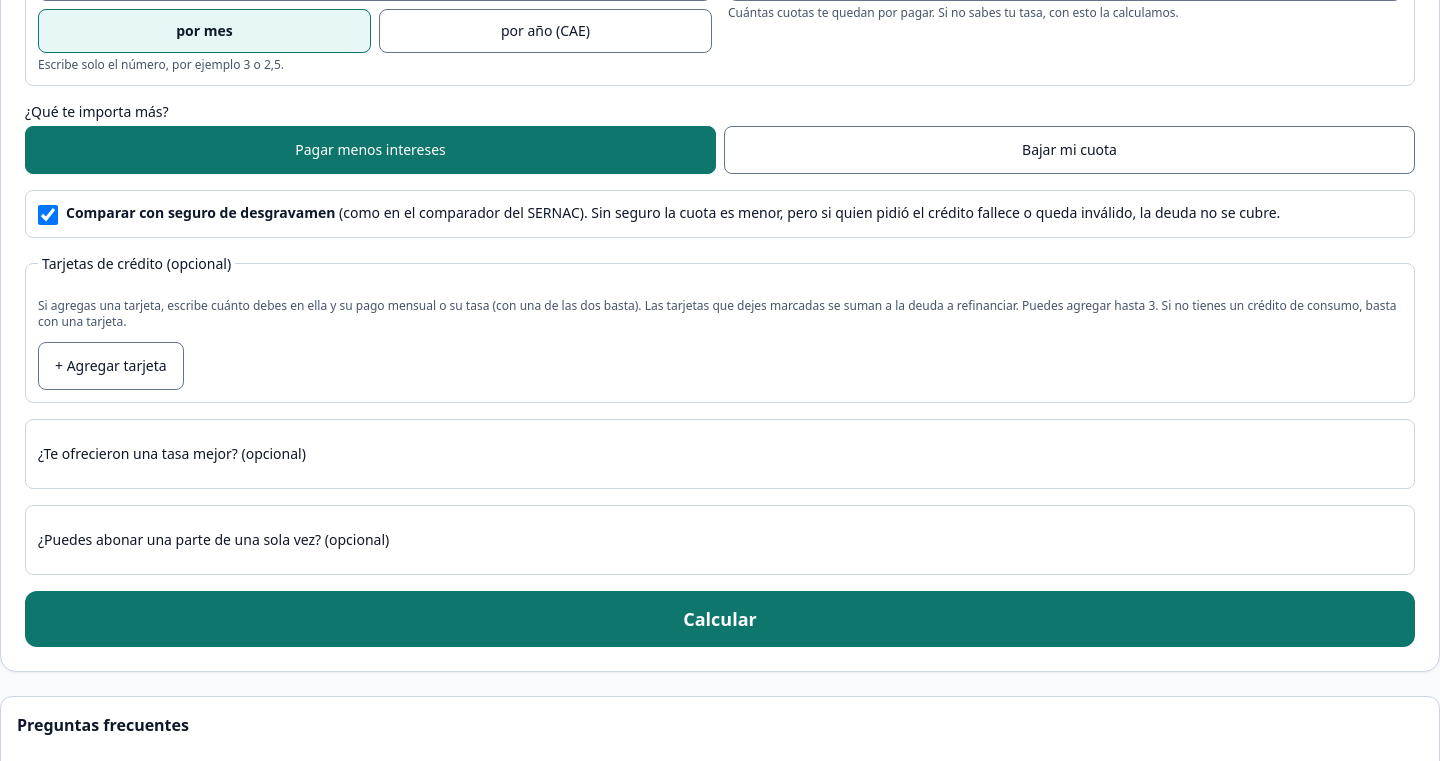
Tarjetas: se suman al total a refinanciar › cada tarjeta trae la casilla 'Incluir en el refinanciamiento' marcada por defecto
The image size is (1440, 761).
(page scrolled)
What coordinates should you click on to do the following:
click the button "+ Agregar tarjeta"
I would click on:
 (111, 366)
Its box is [38,342,184,390].
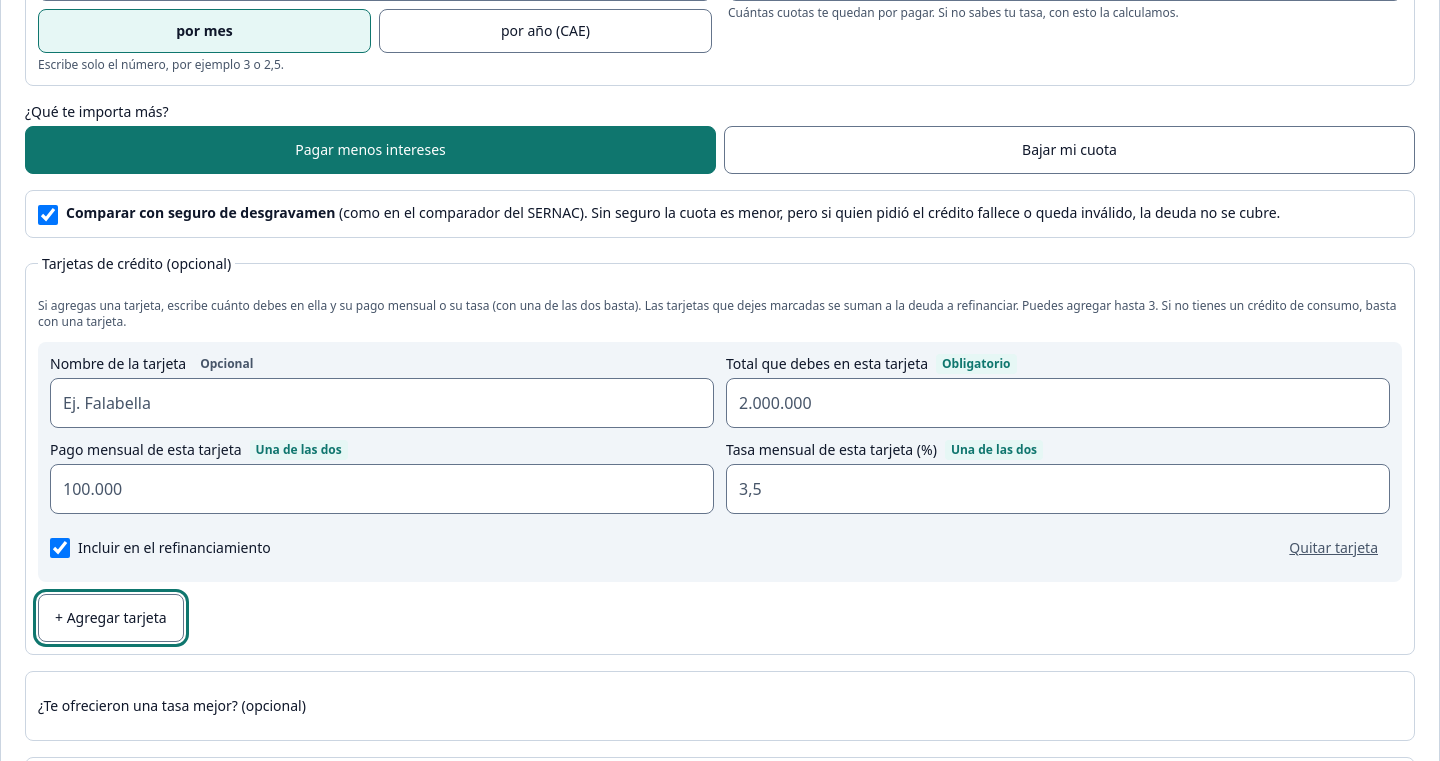
Expected: the checkbox labelled "Incluir en el refinanciamiento" is checked, [50,538,70,558]
